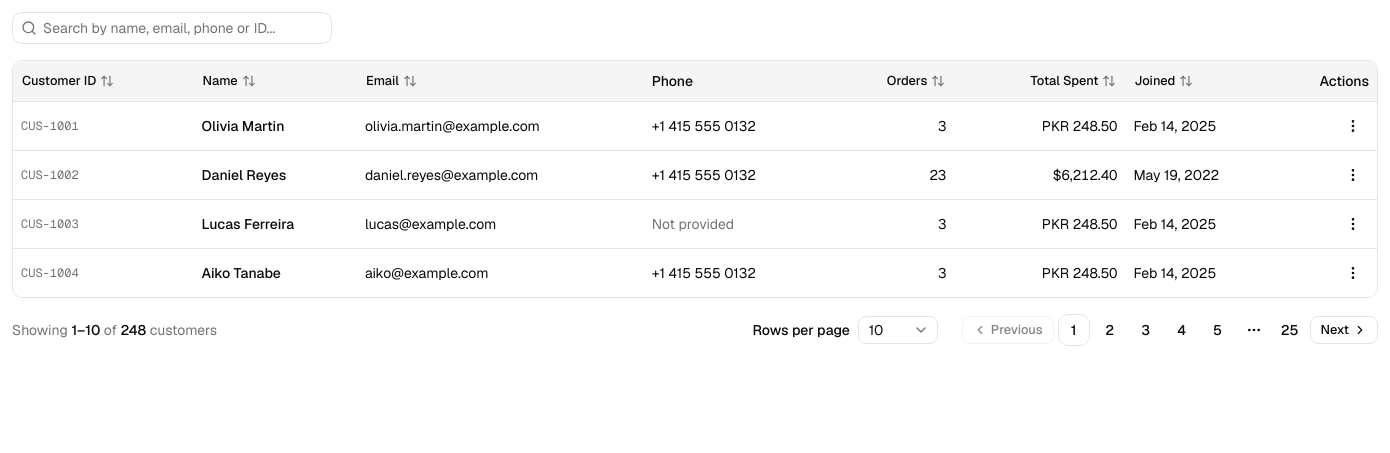
Test case: CustomersList pagination › lets the page size be changed
Expected: the link "Daniel Reyes" is shown, left=202, top=166, right=286, bottom=184
Click the dropdown named "Rows per page" at coordinates (898, 330), box left=858, top=316, right=938, bottom=344
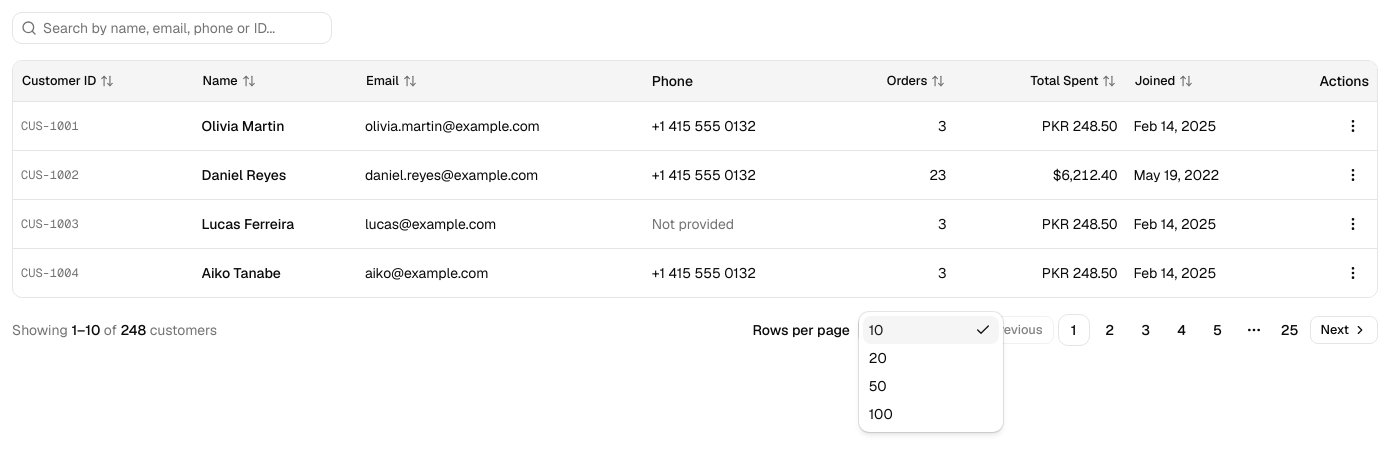
Click the option "20" at coordinates (878, 358), box left=869, top=348, right=887, bottom=366
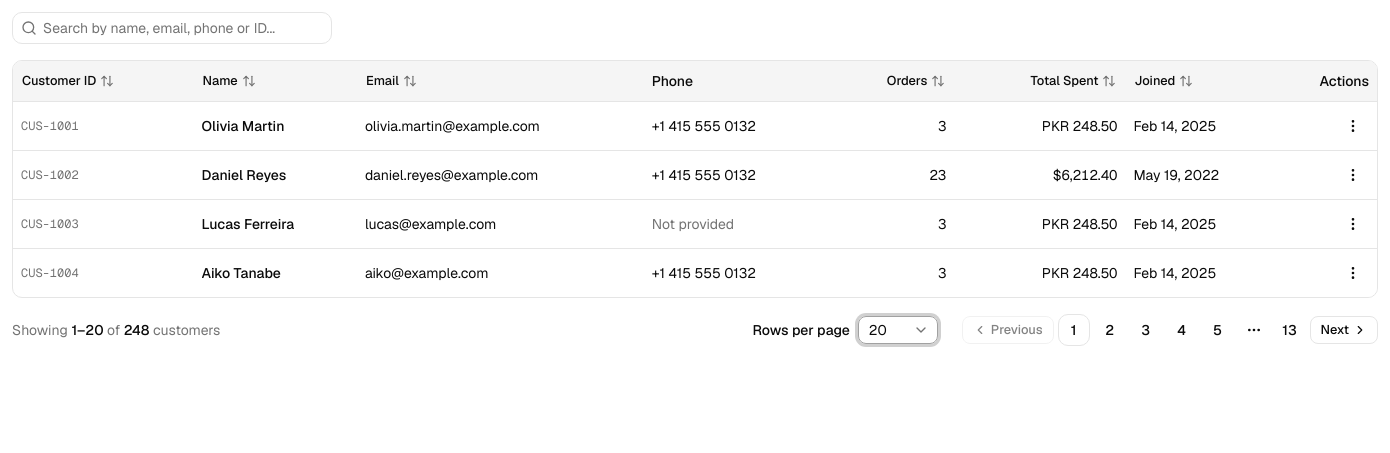
Result: the text "1–20" is shown at left=71, top=320, right=104, bottom=338
